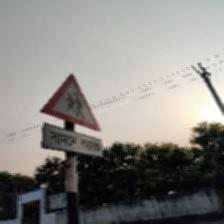College-in-front: (31, 63, 113, 150)
